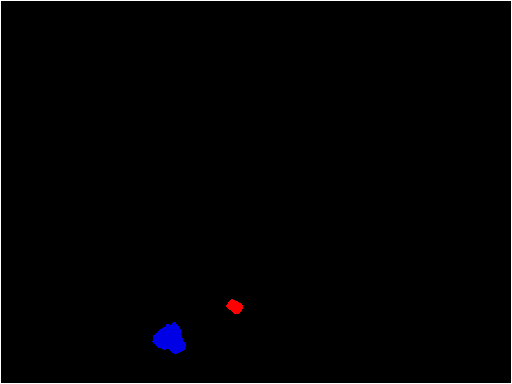chipped: (159, 328, 180, 351)
detached: (227, 300, 242, 314)
